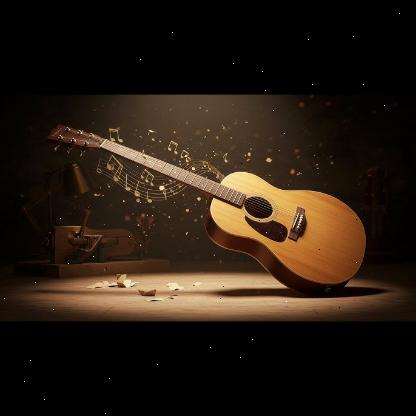acousticguitar: (45, 123, 367, 297)
